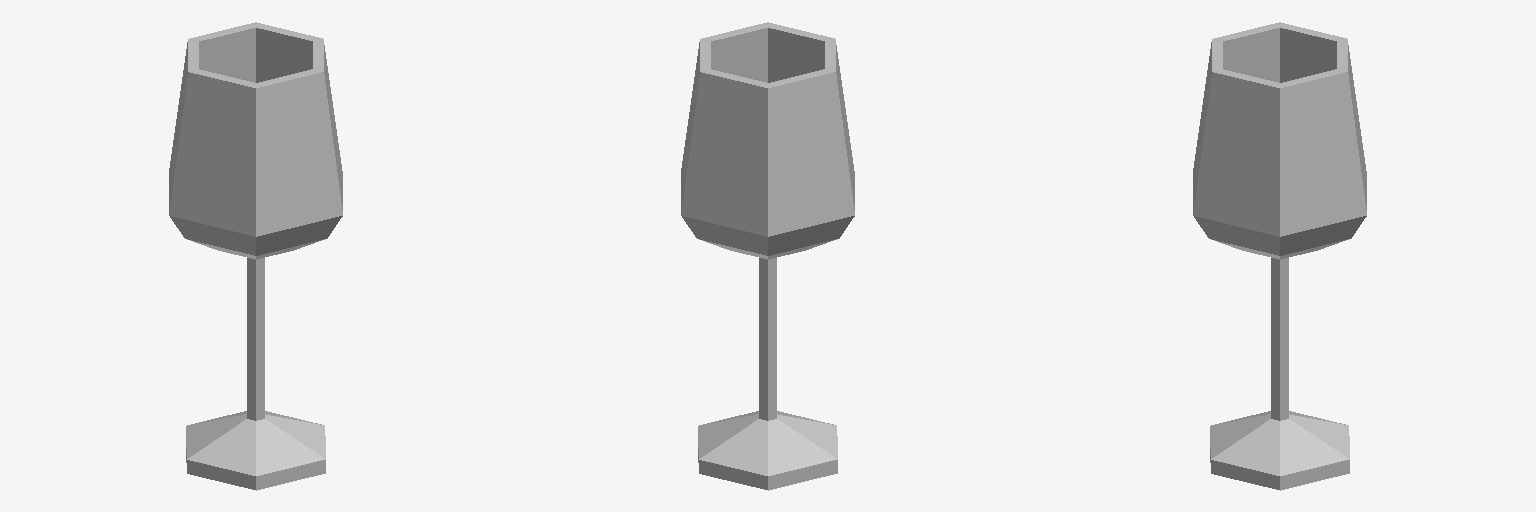
The model's file is glass-wine.obj.
3 renders of one model, left to right at view 1: azimuth 30°, elevation 25°; view 2: azimuth 150°, elevation 25°; view 3: azimuth 270°, elevation 25°, orthographic.
Visible parts, largest first — view 1: glass-wine; view 2: glass-wine; view 3: glass-wine.
Boxes of the visible parts, x1,y1,x2,y2 form: glass-wine: [169, 22, 342, 490]; glass-wine: [681, 22, 854, 490]; glass-wine: [1193, 22, 1366, 490].
Bounding box in the file's own units: 0.2268 × 0.4999 × 0.1969.